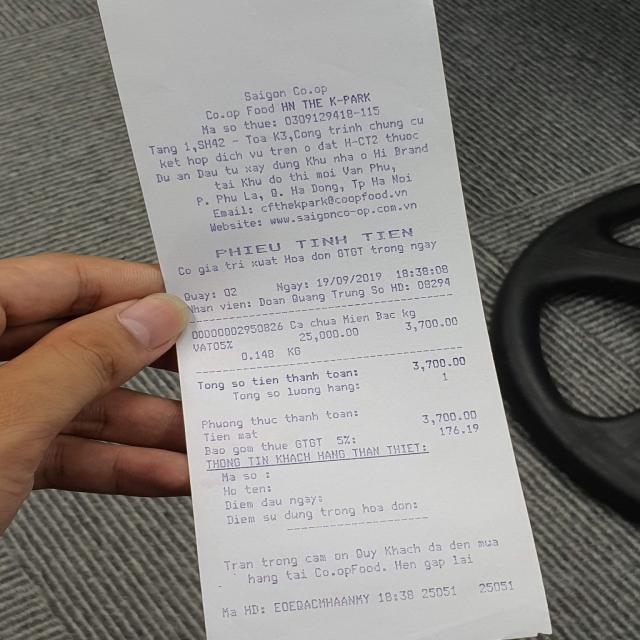Date: (311, 272, 386, 286)
Store_Name: (238, 82, 340, 101)
amount_number: (405, 355, 472, 371)
label_total: (192, 367, 363, 388)
